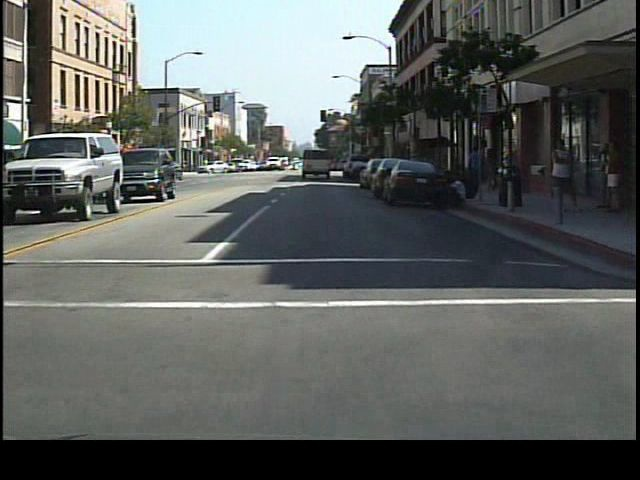person: (545, 127, 581, 223), (465, 141, 486, 200), (481, 143, 502, 197)
